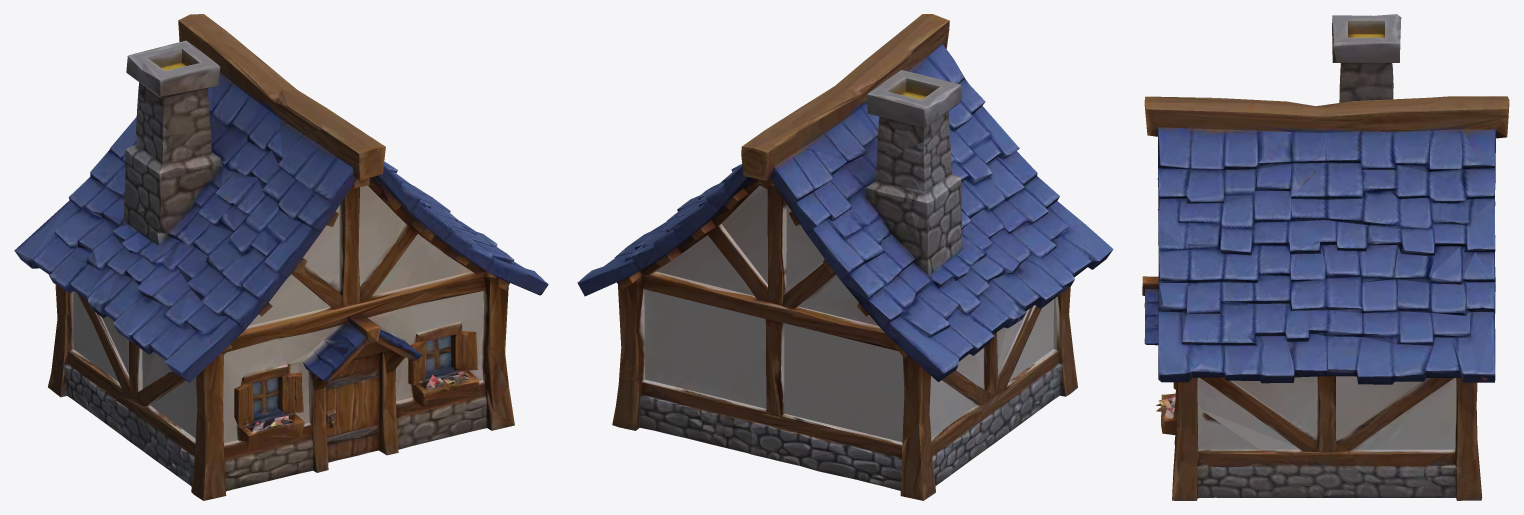
File: oc_farm_cottage.glb
The picture shows the model from 3 angles, left to right: view 1: azimuth 30°, elevation 25°; view 2: azimuth 150°, elevation 25°; view 3: azimuth 270°, elevation 25°; orthographic projection.
Parts seen in each view (by area): view 1: W_farm_cottage; view 2: W_farm_cottage; view 3: W_farm_cottage.
Part boxes in pixels (x1,y1,x2,y2): W_farm_cottage: (14,14,548,500); W_farm_cottage: (577,14,1113,500); W_farm_cottage: (1142,14,1509,500).
Size of the model in its own units: 7.99 by 7.31 by 6.87.
1 material, 1 textured.
